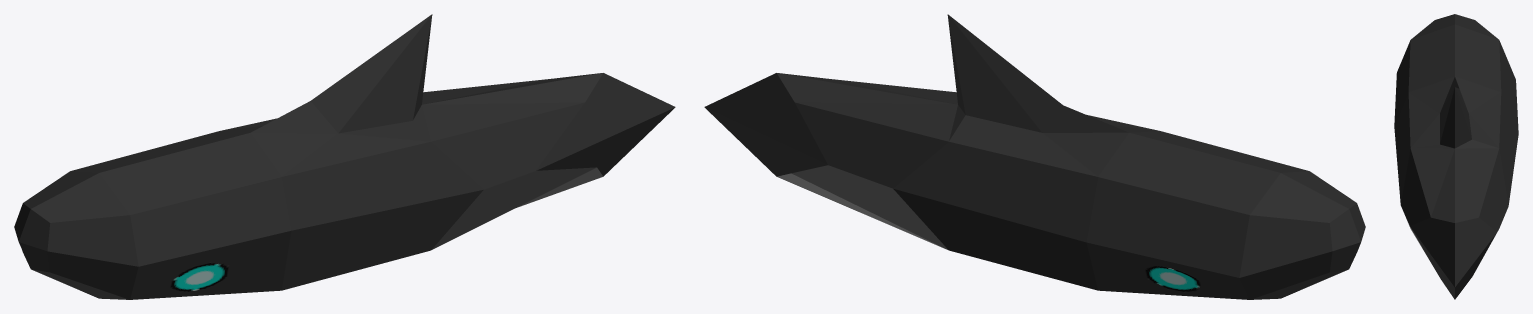
File: Shark Body.fbx
3 renders of one model, left to right at view 1: azimuth 30°, elevation 25°; view 2: azimuth 150°, elevation 25°; view 3: azimuth 270°, elevation 25°, orthographic. The views are drawn at different scales.
Visible parts, largest first — view 1: Shark Body; view 2: Shark Body; view 3: Shark Body.
Part boxes in pixels (<box>): Shark Body: <box>14,14,675,299</box>; Shark Body: <box>704,14,1365,299</box>; Shark Body: <box>1394,14,1518,299</box>.
Size of the model in its own units: 4.73 by 1.58 by 1.05.
Materials: 1 (1 with a texture image).
